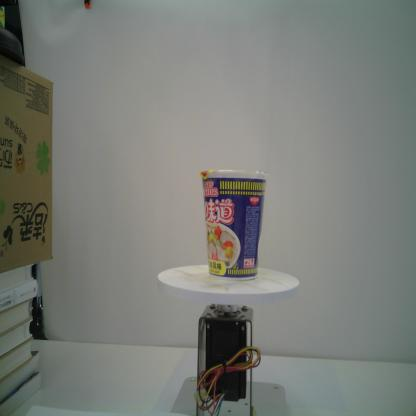Instant Noodles: (199, 164, 273, 287)
